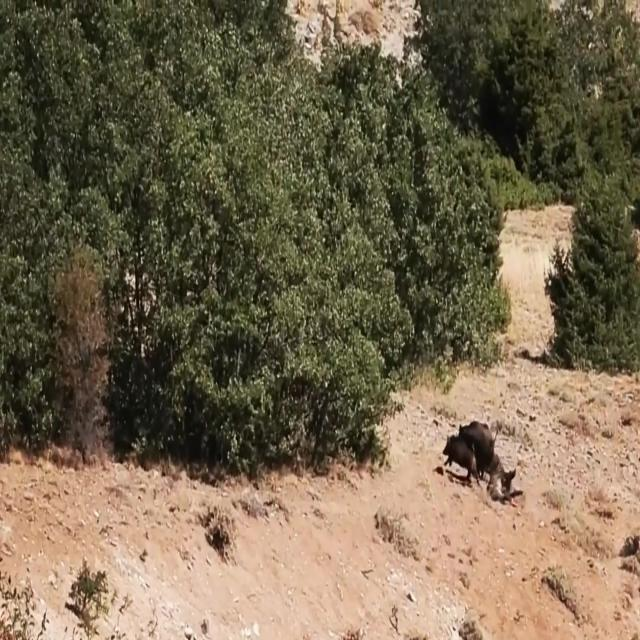pig: (435, 433, 483, 485)
